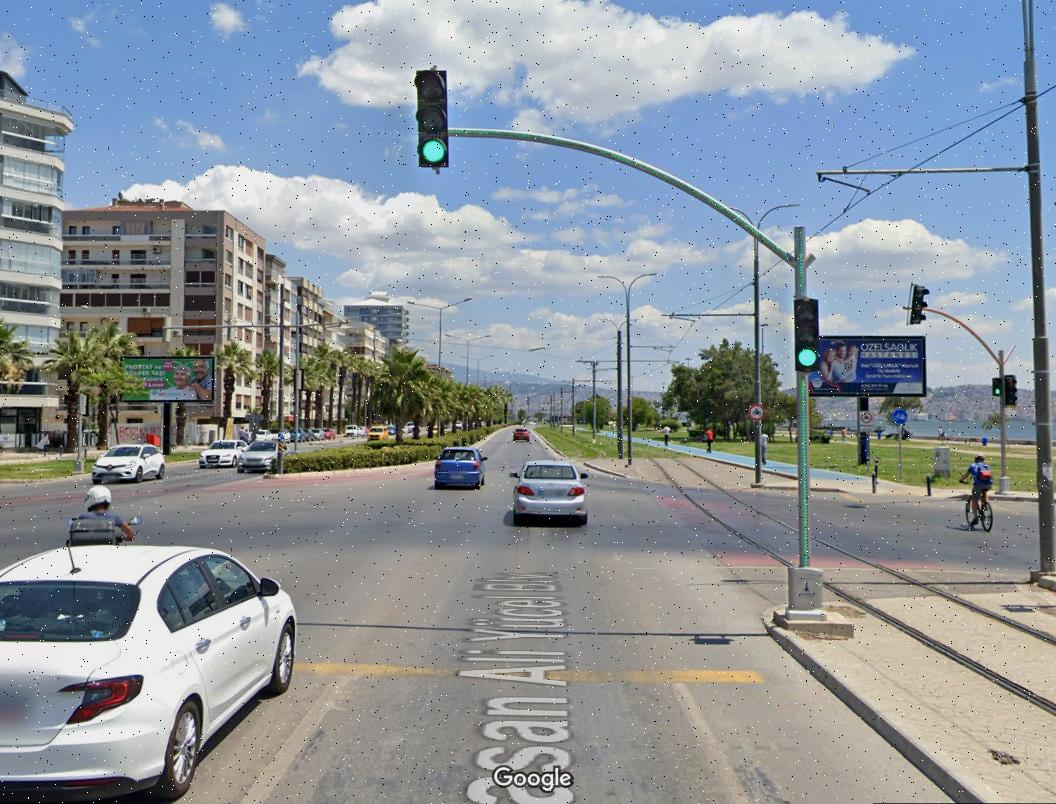greenlight: (414, 68, 449, 170), (796, 298, 819, 371), (994, 376, 1000, 398)
